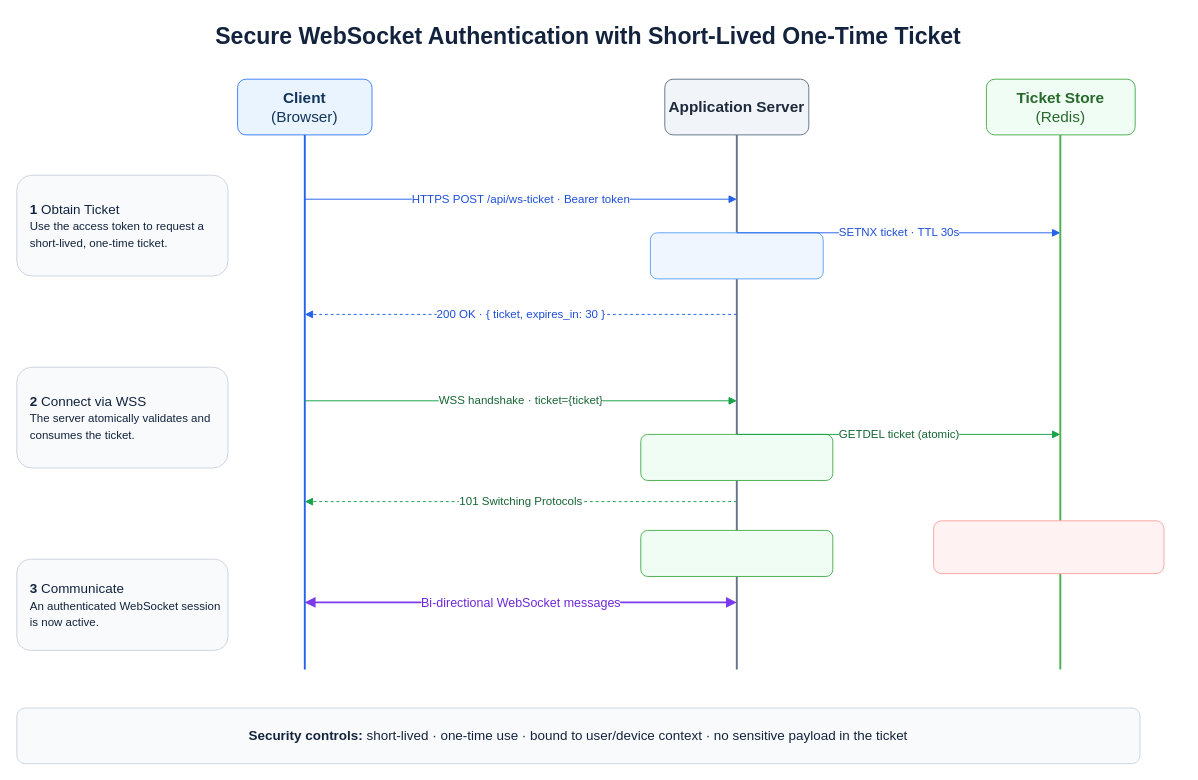
The diagram is 1198 pixels wide and 780 high, and some of its shapes have lost their labels. The shapes that lost their labels are listed below. From the top down, each one's centre as x and y in pixels, then its label:
At pixel 736 255: "Validate access token".
At pixel 736 456: "Validate + consume ticket".
At pixel 736 552: "Authenticated WSS session".
At pixel 1048 547: "Ticket is removed after use — it cannot be replayed.".
